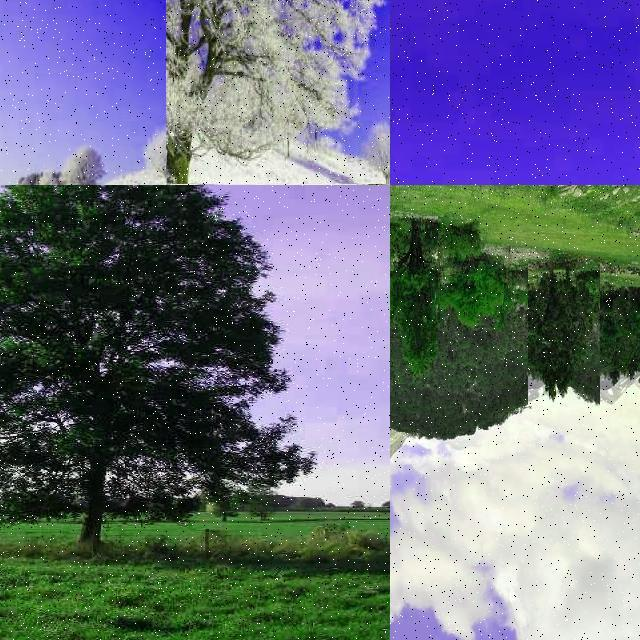tree: (0, 185, 324, 568), (166, 0, 390, 184), (390, 208, 476, 640), (464, 0, 640, 184), (528, 262, 600, 406), (390, 216, 438, 384), (440, 261, 504, 331)
